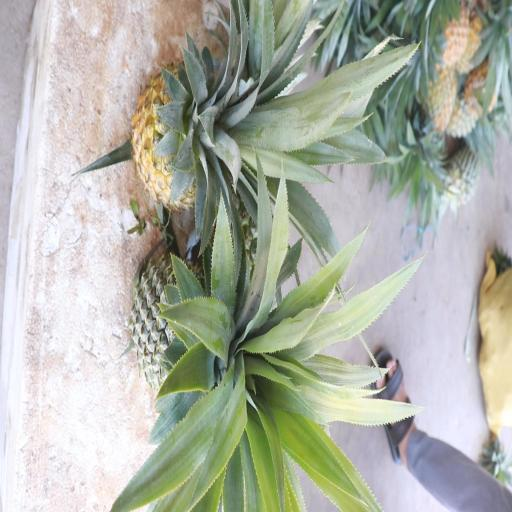Pineapple - v8 v1: (125, 44, 308, 213)
